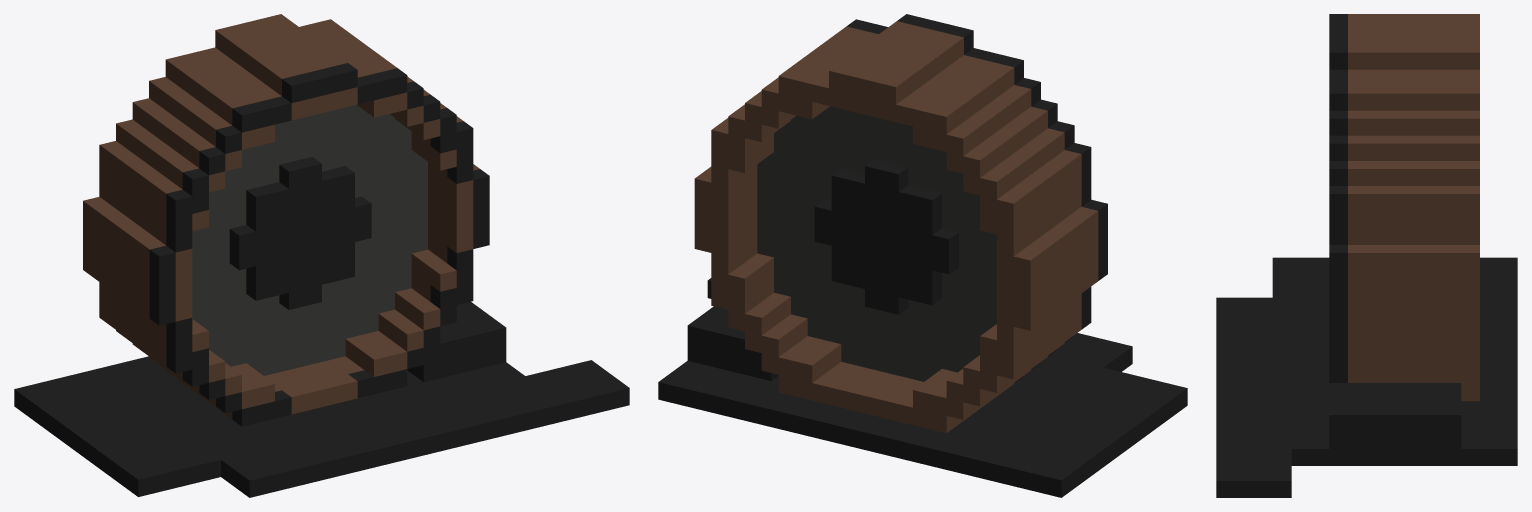
Rendered from burnt_out_bus_rim.glb.
The picture shows the model from 3 angles, left to right: view 1: azimuth 30°, elevation 25°; view 2: azimuth 150°, elevation 25°; view 3: azimuth 270°, elevation 25°; orthographic projection. The views are drawn at different scales.
Parts seen in each view (by area): view 1: body:compound; view 2: body:compound; view 3: body:compound.
Part boxes in pixels (x1,y1,x2,y2): body:compound: (14, 14, 629, 497); body:compound: (658, 14, 1187, 497); body:compound: (1216, 14, 1517, 497).
Size of the model in its own units: 0.875 by 0.625 by 0.5.
